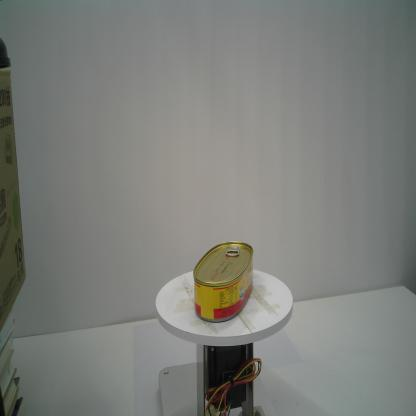Canned Food: (192, 239, 254, 325)
